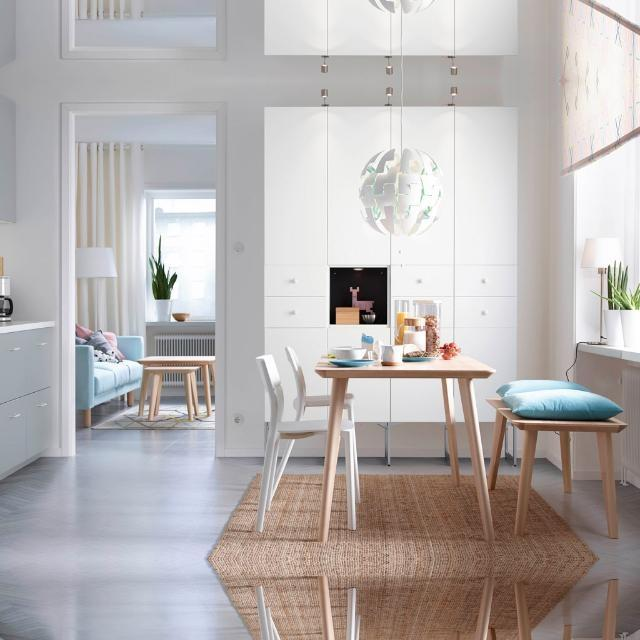obstacle: (315, 336, 499, 542), (496, 374, 626, 536), (254, 351, 360, 535), (315, 574, 499, 640), (495, 579, 626, 640), (140, 343, 220, 432), (76, 321, 144, 421), (254, 581, 359, 640)
